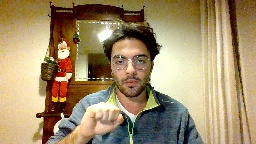Pugno: (76, 100, 125, 139)
